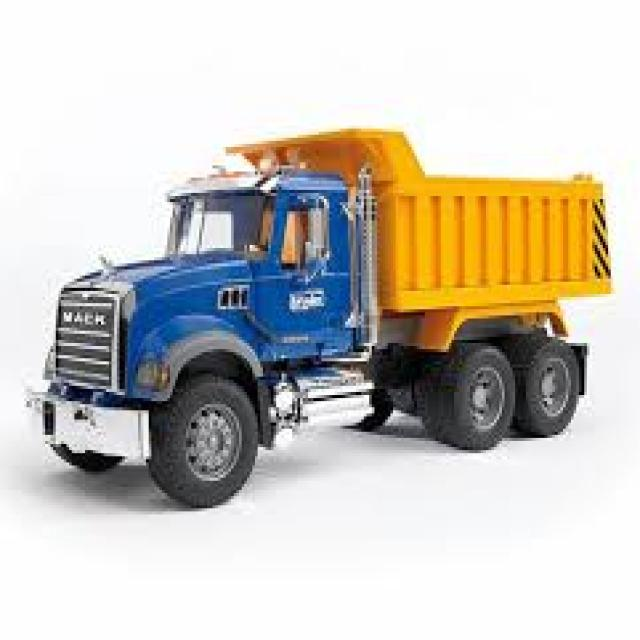dump_truck: (10, 106, 616, 512)
